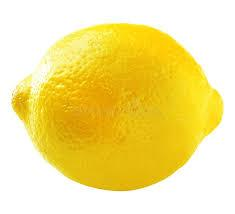non-mango: (10, 22, 224, 191)
